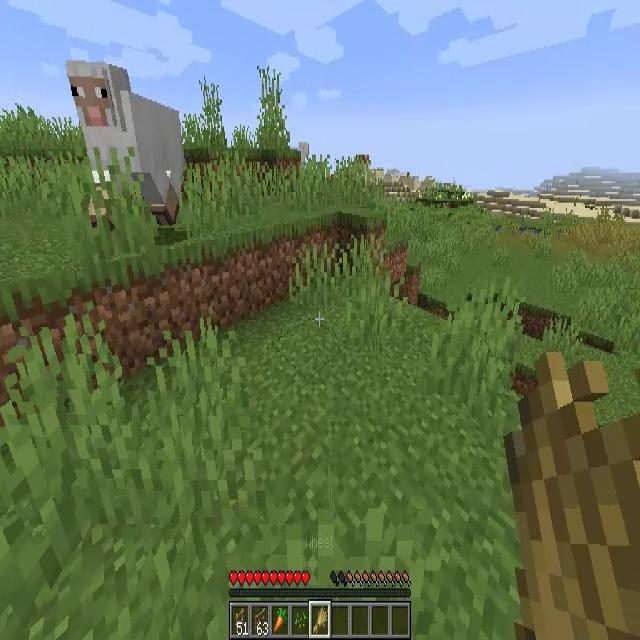sheep: (67, 59, 184, 232)
